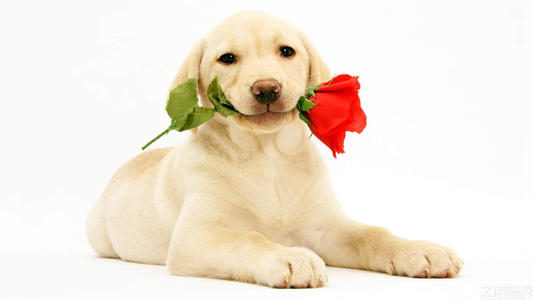dog: (81, 7, 468, 290)
